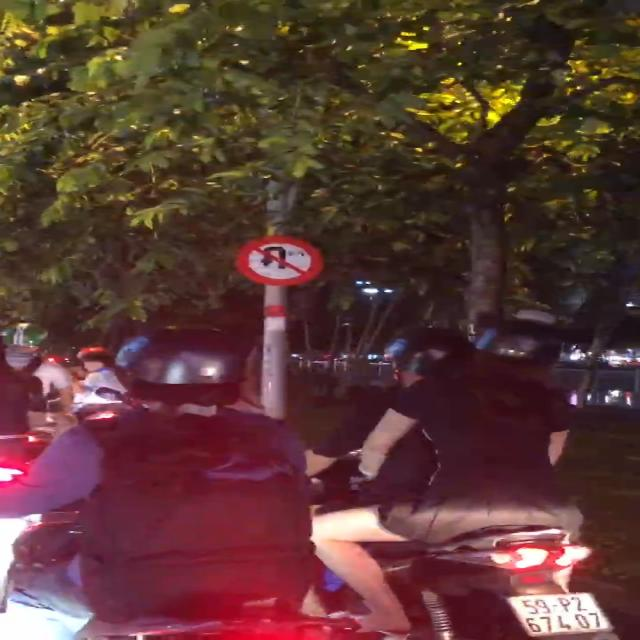Bien bao cam quay dau xe: (235, 234, 326, 289)
